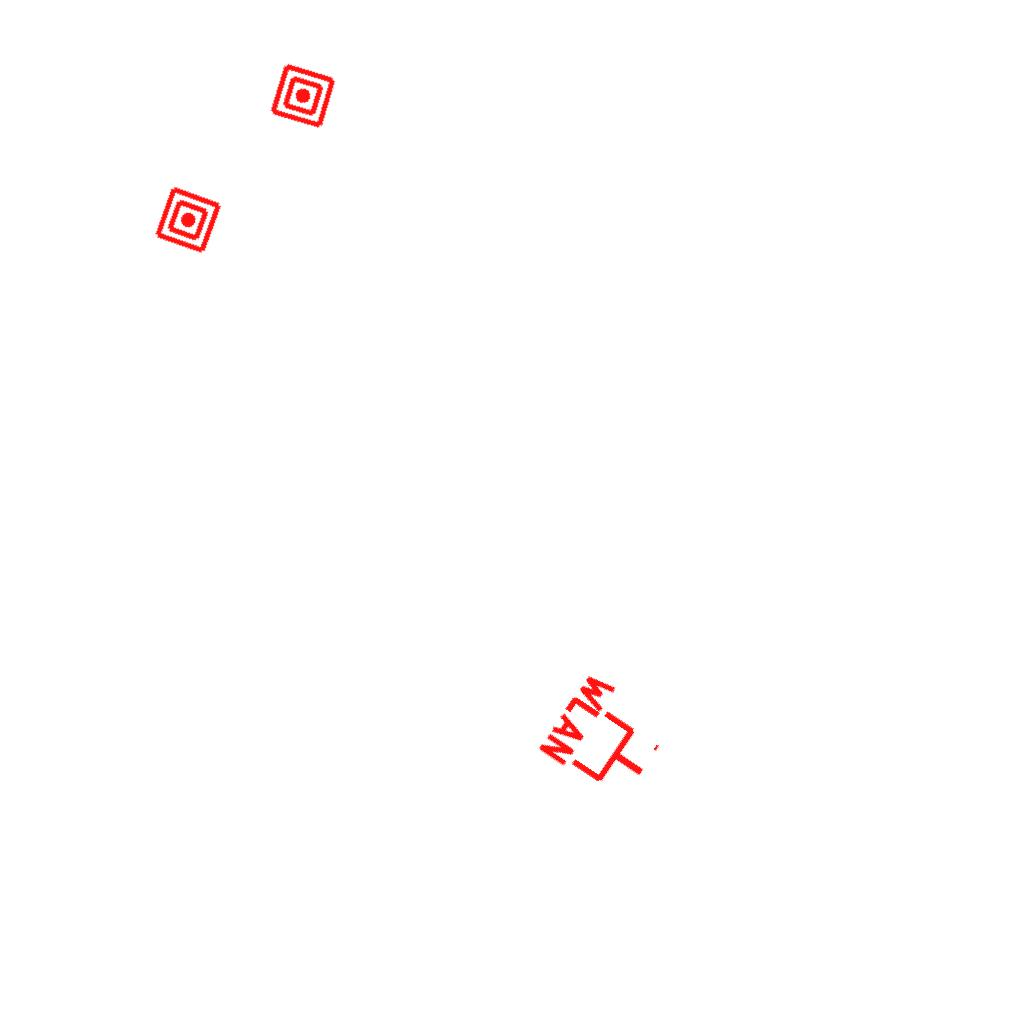NAM-Nichtautomatischer_Melder: (152, 184, 224, 256), (268, 61, 338, 131)
WLAN: (533, 665, 680, 811)
